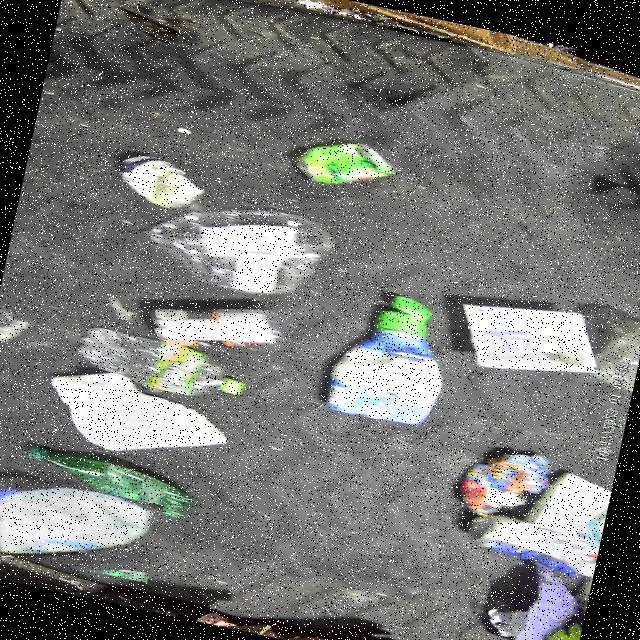milk-jug: (0, 466, 163, 581)
